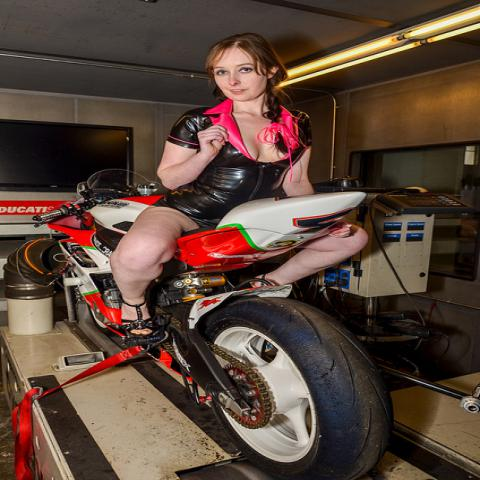motorcycle: (37, 172, 399, 472)
